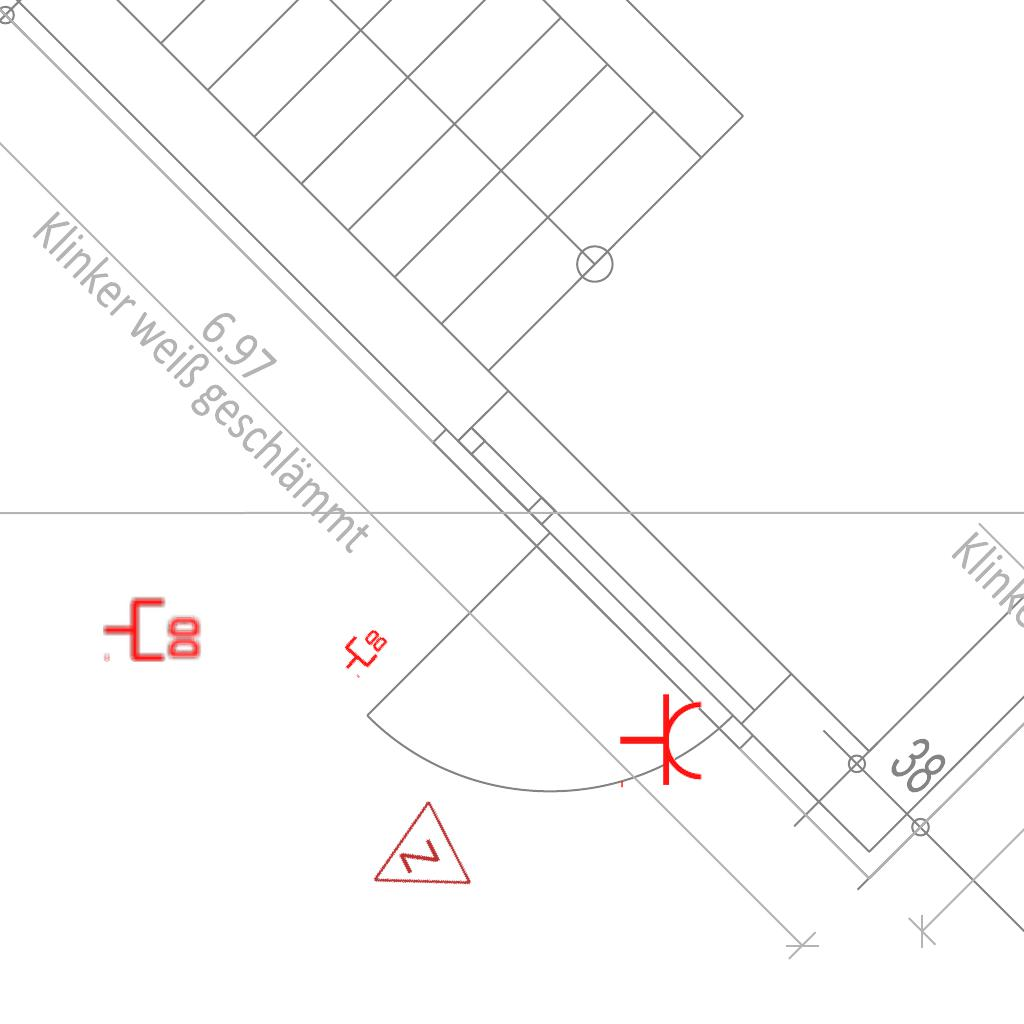Datenanschluss_zweifach: (101, 594, 204, 663), (332, 619, 392, 680)
Schukosteckdose_einfach: (618, 692, 705, 792)
Zimmersignalleuchte: (346, 795, 480, 929)
